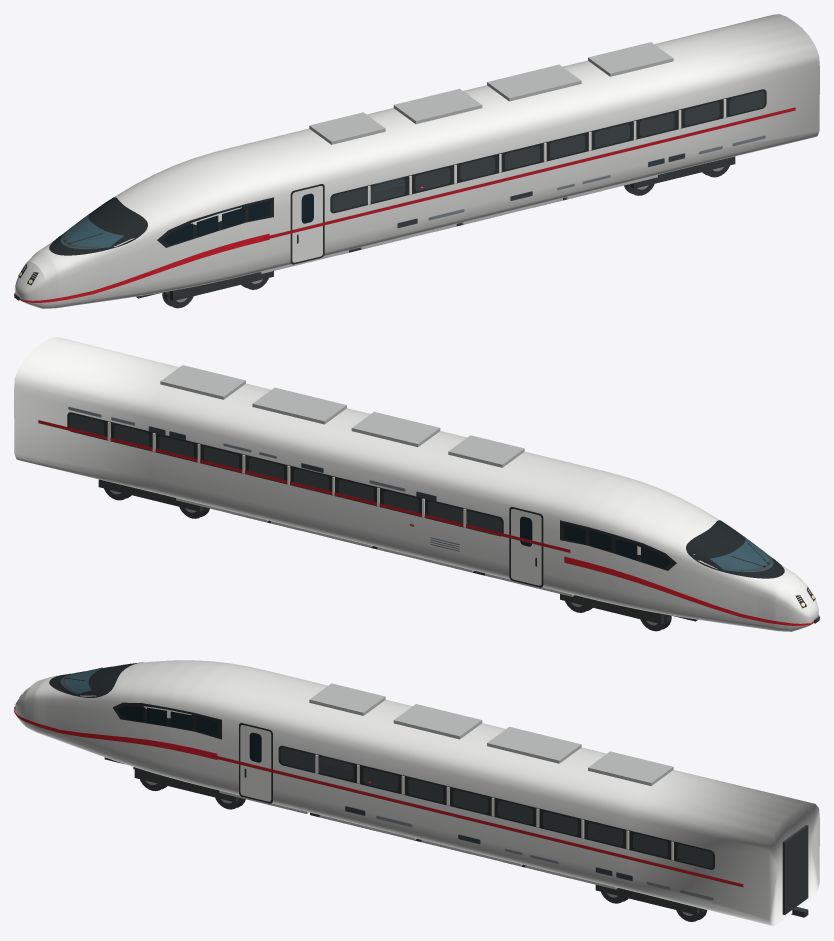
File: ice3-br403-v2-second-end-403-5.glb
3 renders of one model, top to bottom at view 1: azimuth 30°, elevation 25°; view 2: azimuth 150°, elevation 25°; view 3: azimuth 330°, elevation 25°, orthographic.
Parts seen in each view (by area): view 1: ice3_v2_reference_calibrated_cab_shell.001, ice3_v2_original_decal_atlas_1.001, ice3_v2_continuous_window_recess_1.001, ice3_v2_panorama_windscreen_seal.001, ice3_v2_roof_fairing_1.001, ice3_v2_passenger_door_leaf_1.001, ice3_v2_roof_fairing_2.001, ice3_v2_roof_fairing_0.001, ice3_v2_roof_fairing_3.001, ice3_v2_smooth_nose_stripe_1.001, ice3_v2_panorama_windscreen_glass.001, ice3_v2_convex_nose_cap.001 (+13 smaller); view 2: ice3_v2_reference_calibrated_cab_shell.001, ice3_v2_original_decal_atlas_-1.001, ice3_v2_continuous_window_recess_-1.001, ice3_v2_panorama_windscreen_seal.001, ice3_v2_roof_fairing_1.001, ice3_v2_passenger_door_leaf_-1.001, ice3_v2_roof_fairing_2.001, ice3_v2_roof_fairing_0.001, ice3_v2_roof_fairing_3.001, ice3_v2_smooth_nose_stripe_-1.001, ice3_v2_panorama_windscreen_glass.001, ice3_v2_convex_nose_cap.001 (+3 smaller); view 3: ice3_v2_reference_calibrated_cab_shell.001, ice3_v2_original_decal_atlas_1.001, ice3_v2_continuous_window_recess_1.001, ice3_v2_rear_gangway.001, ice3_v2_roof_fairing_1.001, ice3_v2_passenger_door_leaf_1.001, ice3_v2_roof_fairing_2.001, ice3_v2_roof_fairing_0.001, ice3_v2_roof_fairing_3.001, ice3_v2_panorama_windscreen_seal.001, ice3_v2_smooth_nose_stripe_1.001, ice3_v2_end_car_bogie_1_sideframe_1.001 (+13 smaller).
Boxes of the visible parts, left/top/right/bottom form: ice3_v2_reference_calibrated_cab_shell.001: left=27, top=14, right=819, bottom=308; ice3_v2_original_decal_atlas_1.001: left=263, top=107, right=795, bottom=239; ice3_v2_continuous_window_recess_1.001: left=330, top=89, right=766, bottom=213; ice3_v2_panorama_windscreen_seal.001: left=49, top=197, right=147, bottom=255; ice3_v2_roof_fairing_1.001: left=487, top=64, right=581, bottom=101; ice3_v2_passenger_door_leaf_1.001: left=292, top=186, right=322, bottom=262; ice3_v2_roof_fairing_2.001: left=393, top=88, right=482, bottom=124; ice3_v2_roof_fairing_0.001: left=588, top=42, right=673, bottom=76; ice3_v2_roof_fairing_3.001: left=309, top=112, right=385, bottom=144; ice3_v2_smooth_nose_stripe_1.001: left=22, top=233, right=269, bottom=302; ice3_v2_panorama_windscreen_glass.001: left=60, top=213, right=124, bottom=248; ice3_v2_convex_nose_cap.001: left=15, top=261, right=45, bottom=308; ice3_v2_reference_calibrated_cab_shell.001: left=14, top=337, right=806, bottom=631; ice3_v2_original_decal_atlas_-1.001: left=38, top=407, right=570, bottom=552; ice3_v2_continuous_window_recess_-1.001: left=67, top=412, right=503, bottom=536; ice3_v2_panorama_windscreen_seal.001: left=686, top=520, right=784, bottom=578; ice3_v2_roof_fairing_1.001: left=252, top=387, right=346, bottom=424; ice3_v2_passenger_door_leaf_-1.001: left=511, top=509, right=541, bottom=585; ice3_v2_roof_fairing_2.001: left=351, top=411, right=440, bottom=447; ice3_v2_roof_fairing_0.001: left=160, top=365, right=245, bottom=399; ice3_v2_roof_fairing_3.001: left=448, top=435, right=524, bottom=467; ice3_v2_smooth_nose_stripe_-1.001: left=564, top=556, right=811, bottom=625; ice3_v2_panorama_windscreen_glass.001: left=709, top=536, right=773, bottom=571; ice3_v2_convex_nose_cap.001: left=788, top=584, right=818, bottom=631; ice3_v2_reference_calibrated_cab_shell.001: left=24, top=660, right=819, bottom=926; ice3_v2_original_decal_atlas_1.001: left=211, top=754, right=743, bottom=900; ice3_v2_continuous_window_recess_1.001: left=278, top=745, right=714, bottom=869; ice3_v2_rear_gangway.001: left=782, top=825, right=808, bottom=914; ice3_v2_roof_fairing_1.001: left=487, top=726, right=581, bottom=763; ice3_v2_passenger_door_leaf_1.001: left=240, top=725, right=271, bottom=801; ice3_v2_roof_fairing_2.001: left=393, top=704, right=482, bottom=739; ice3_v2_roof_fairing_0.001: left=588, top=751, right=673, bottom=785; ice3_v2_roof_fairing_3.001: left=309, top=683, right=385, bottom=715; ice3_v2_panorama_windscreen_seal.001: left=49, top=662, right=142, bottom=697; ice3_v2_smooth_nose_stripe_1.001: left=14, top=711, right=217, bottom=759; ice3_v2_end_car_bogie_1_sideframe_1.001: left=134, top=767, right=238, bottom=802.
Size of the model in its own units: 26.21 by 4.04 by 3.03.
15 materials, 1 textured.
